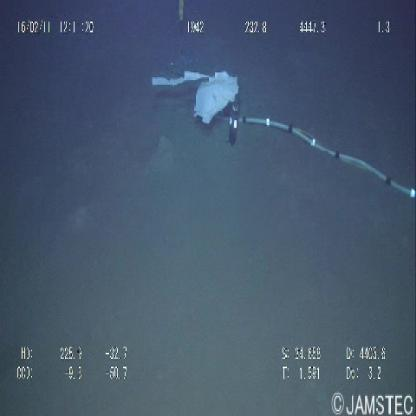Rác: (148, 63, 244, 133)
